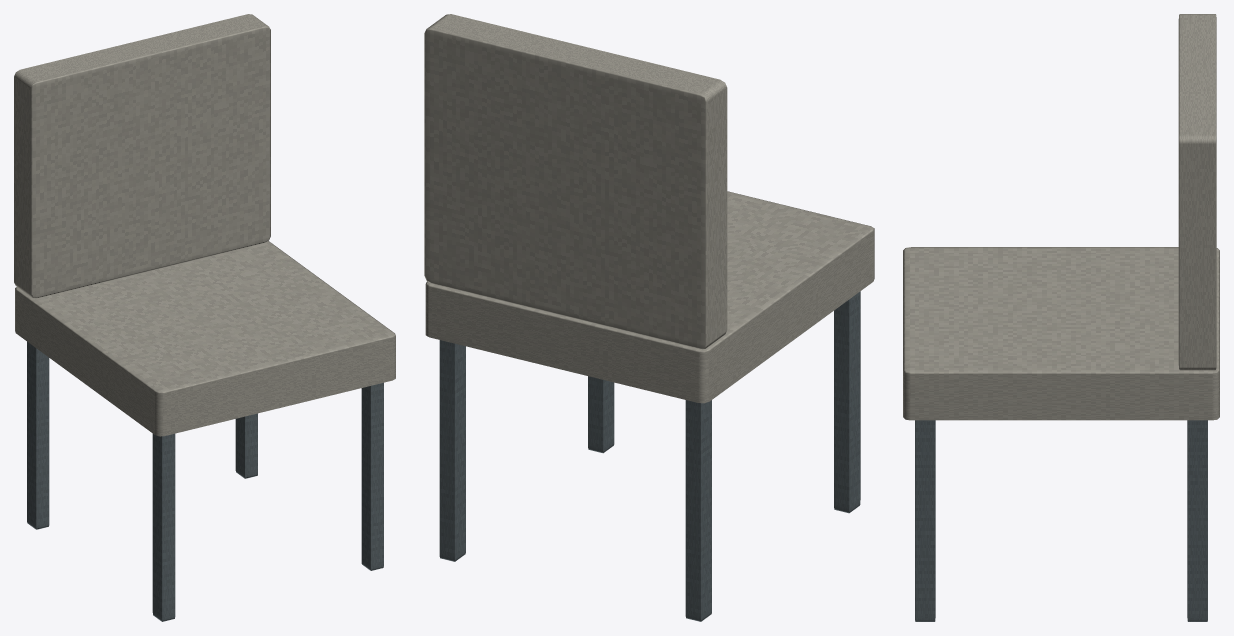
File: folding-chair.glb
3 views of the same model, side by side, from view 1: azimuth 30°, elevation 25°; view 2: azimuth 150°, elevation 25°; view 3: azimuth 270°, elevation 25° (orthographic). The views are drawn at different scales.
Visible parts, largest first — view 1: back, seat, leg (×4); view 2: back, seat, leg (×4); view 3: seat, back, leg (×2).
Part boxes in pixels (box(x1,y1,x2,y2)): back: box(14, 14, 270, 298); seat: box(15, 241, 395, 436); leg (×4): box(27, 341, 383, 621); back: box(424, 14, 727, 349); seat: box(425, 191, 874, 403); leg (×4): box(439, 291, 860, 621); seat: box(903, 247, 1219, 420); back: box(1178, 14, 1216, 370); leg (×2): box(915, 420, 1207, 621).
Bounding box in the file's own units: 0.4455 × 0.8 × 0.47.
2 materials, 2 textured.
